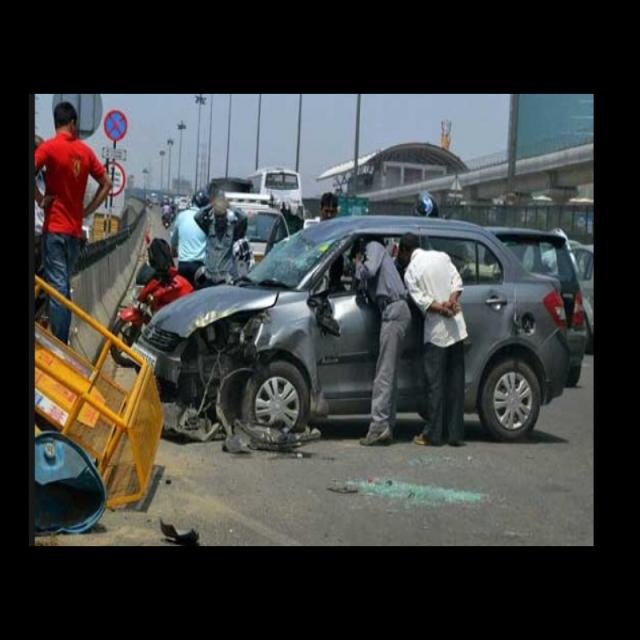accident: (136, 217, 569, 450)
